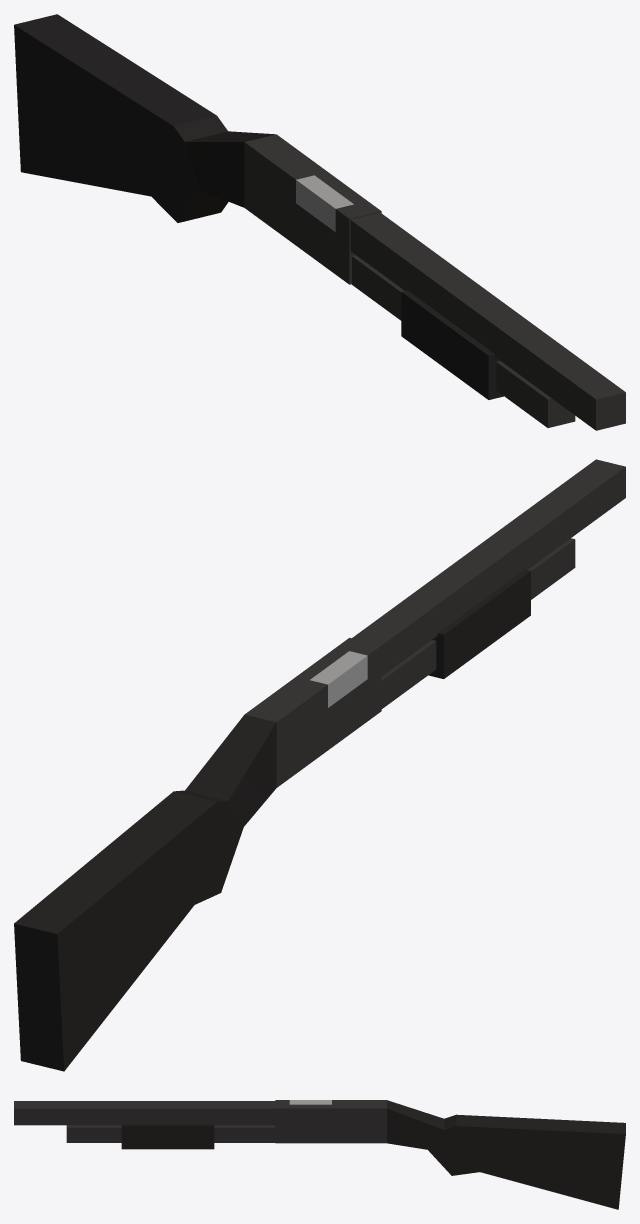
The model's file is PumpSG.FBX.
The picture shows the model from 3 angles, top to bottom: view 1: azimuth 30°, elevation 25°; view 2: azimuth 150°, elevation 25°; view 3: azimuth 270°, elevation 25°; orthographic projection. The views are drawn at different scales.
Visible parts, largest first — view 1: PumpSG, PumpSGpump; view 2: PumpSG, PumpSGpump; view 3: PumpSG, PumpSGpump.
Part boxes in pixels (bbox=[...]): PumpSG: bbox=[14, 14, 625, 430]; PumpSGpump: bbox=[401, 290, 503, 399]; PumpSG: bbox=[14, 459, 625, 1071]; PumpSGpump: bbox=[428, 569, 530, 678]; PumpSG: bbox=[14, 1100, 625, 1209]; PumpSGpump: bbox=[121, 1124, 214, 1149].
Bounding box in the file's own units: 9.51 × 219 × 39.45.
